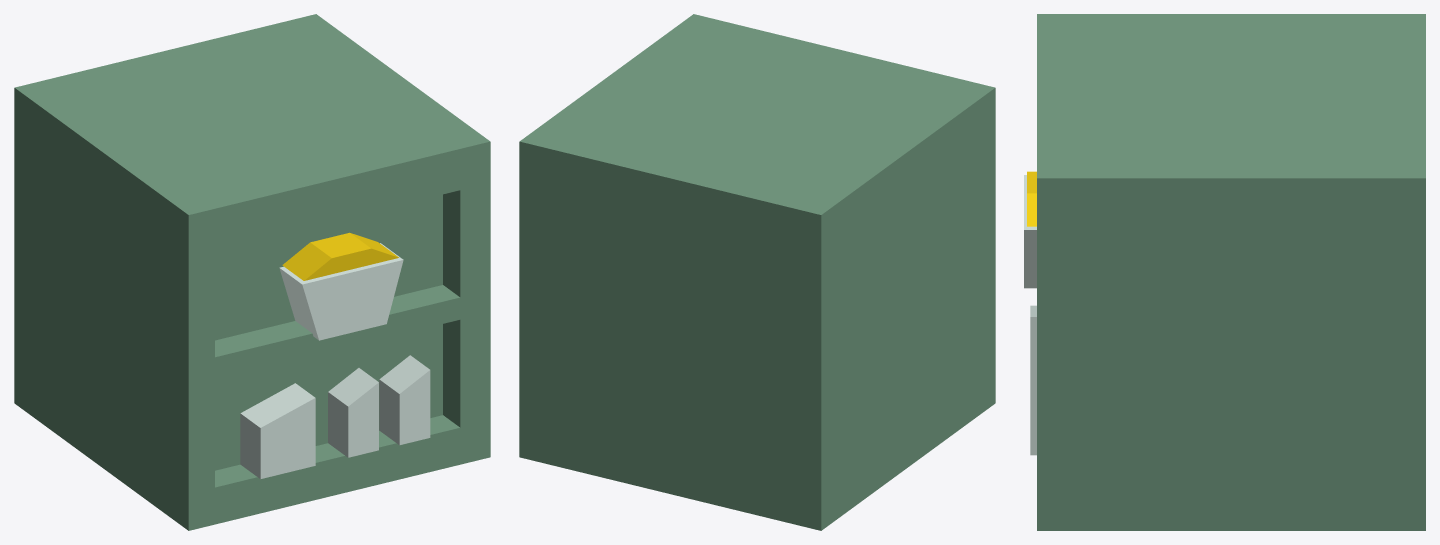
File: Drawer_C.fbx
The picture shows the model from 3 angles, left to right: view 1: azimuth 30°, elevation 25°; view 2: azimuth 150°, elevation 25°; view 3: azimuth 270°, elevation 25°; orthographic projection. The views are drawn at different scales.
Visible parts, largest first — view 1: pCube2, pCube3, pCube5, pCube7, pCube6, pCube4; view 2: pCube2; view 3: pCube2, pCube3, pCube4, pCube7.
Boxes of the visible parts, <box> form: pCube2: <box>14,14,490,530</box>; pCube3: <box>279,243,403,340</box>; pCube5: <box>240,383,315,479</box>; pCube7: <box>379,355,430,445</box>; pCube6: <box>328,368,378,457</box>; pCube4: <box>282,232,398,280</box>; pCube2: <box>519,14,995,530</box>; pCube2: <box>1037,14,1425,530</box>; pCube3: <box>1024,175,1036,288</box>; pCube4: <box>1027,171,1036,226</box>; pCube7: <box>1030,379,1036,455</box>.
Size of the model in its own units: 73.32 by 73.32 by 75.72.
